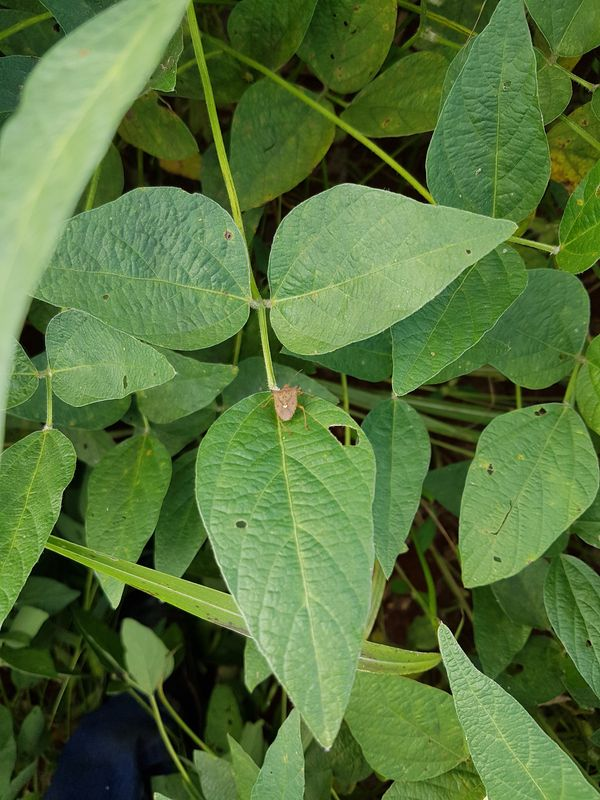Euschistus_heros_adulto: (258, 370, 315, 437)
